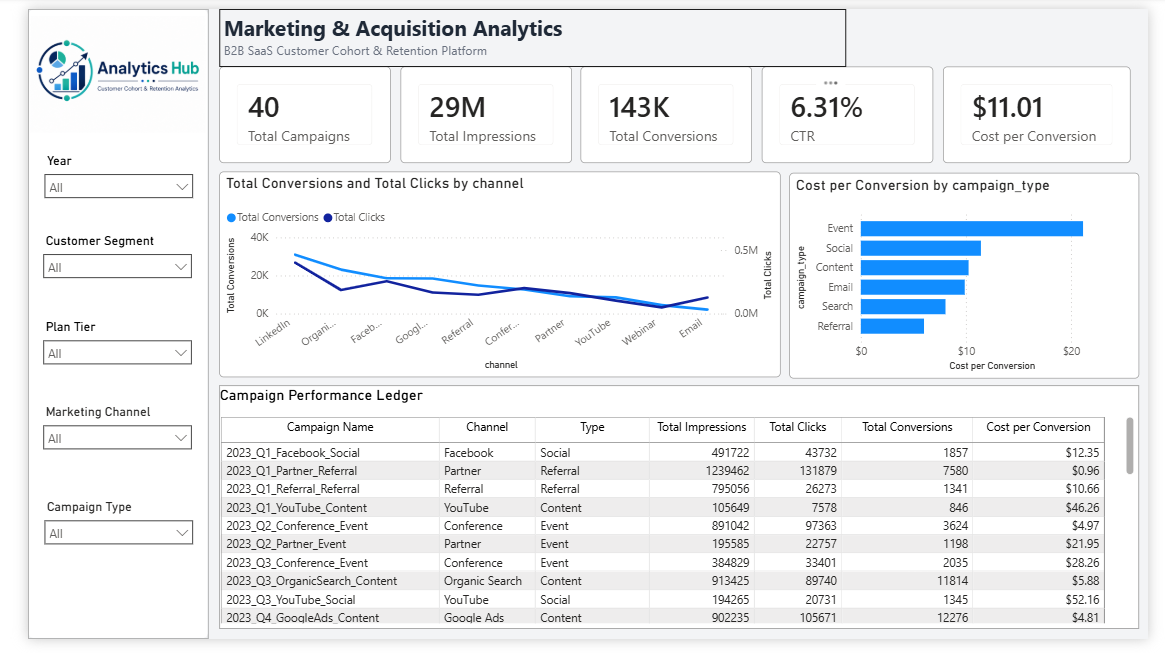

The page's visual inventory and layout, read from the dashboard file:
{"tool":"powerbi","page":{"name":"05.Marketing Analytics","canvas":[1280,720],"ordinal":4},"visuals":[{"type":"shape","title":"Analytics Hub","box":[0,0,206.7,720],"z":0},{"type":"slicer","fields":{"Values":["Dim_Calendar.Year"]},"box":[8.6,160,190,80],"z":1000},{"type":"slicer","fields":{"Values":["Dim_Account.Customer Segment"]},"box":[7.1,251.4,190,80],"z":2000},{"type":"image","box":[2.9,7.1,200,135.7],"z":3000},{"type":"slicer","fields":{"Values":["Dim_Account.plan_tier"]},"box":[7.1,350,190,80],"z":4000},{"type":"slicer","fields":{"Values":["Dim_Campaign.channel"]},"box":[7.1,447.1,190,80],"z":5000},{"type":"slicer","fields":{"Values":["Dim_Campaign.campaign_type"]},"box":[8.6,555.7,190,80],"z":6000},{"type":"cardVisual","fields":{"Data":["Dim_Campaign.Total Campaigns"]},"box":[218.6,65.7,195.7,110],"z":7000},{"type":"cardVisual","fields":{"Data":["Dim_Campaign.Total Impressions"]},"box":[425.7,65.7,195.7,110],"z":8000},{"type":"cardVisual","fields":{"Data":["Dim_Campaign.Total Conversions"]},"box":[631.4,65.7,195.7,110],"z":9000},{"type":"cardVisual","fields":{"Data":["Dim_Campaign.CTR"]},"box":[838.6,65.7,195.7,110],"z":10000},{"type":"cardVisual","fields":{"Data":["Dim_Campaign.Cost per Conversion"]},"box":[1045.7,65.7,214.3,110],"z":11000},{"type":"textbox","box":[218.6,0,717.1,65],"z":12000},{"type":"lineChart","fields":{"Category":["Dim_Campaign.channel"],"Y":["Dim_Campaign.Total Conversions"],"Y2":["Dim_Campaign.Total Clicks"]},"box":[218.4,185.3,641.7,235],"z":13000},{"type":"clusteredBarChart","fields":{"Category":["Dim_Campaign.campaign_type"],"Y":["Dim_Campaign.Cost per Conversion"]},"box":[870,187.1,400,235],"z":14000},{"type":"tableEx","title":"Campaign Performance Ledger","fields":{"Values":["Dim_Campaign.campaign_name","Dim_Campaign.channel","Dim_Campaign.campaign_type","Dim_Campaign.Total Impressions","Dim_Campaign.Total Clicks","Dim_Campaign.Total Conversions","Dim_Campaign.Cost per Conversion"]},"box":[218.6,430,1051.4,278.6],"z":15000}]}

Visuals, with their boxes in screenshot pixels (x1, y1, x2, y2), scaled from the page's 1280x720 canvas onto the 1165x653 screenshot:
"Analytics Hub" shape: left=0, top=0, right=188, bottom=652
slicer - Dim_Calendar.Year: left=8, top=145, right=181, bottom=218
slicer - Dim_Account.Customer Segment: left=6, top=228, right=179, bottom=301
image: left=3, top=6, right=185, bottom=130
slicer - Dim_Account.plan_tier: left=6, top=317, right=179, bottom=390
slicer - Dim_Campaign.channel: left=6, top=405, right=179, bottom=478
slicer - Dim_Campaign.campaign_type: left=8, top=504, right=181, bottom=577
cardVisual - Dim_Campaign.Total Campaigns: left=199, top=60, right=377, bottom=159
cardVisual - Dim_Campaign.Total Impressions: left=387, top=60, right=566, bottom=159
cardVisual - Dim_Campaign.Total Conversions: left=575, top=60, right=753, bottom=159
cardVisual - Dim_Campaign.CTR: left=763, top=60, right=941, bottom=159
cardVisual - Dim_Campaign.Cost per Conversion: left=952, top=60, right=1147, bottom=159
textbox: left=199, top=0, right=852, bottom=59
lineChart - Dim_Campaign.channel x Dim_Campaign.Total Conversions: left=199, top=168, right=783, bottom=381
clusteredBarChart - Dim_Campaign.campaign_type x Dim_Campaign.Cost per Conversion: left=792, top=170, right=1156, bottom=383
"Campaign Performance Ledger" tableEx: left=199, top=390, right=1156, bottom=643
